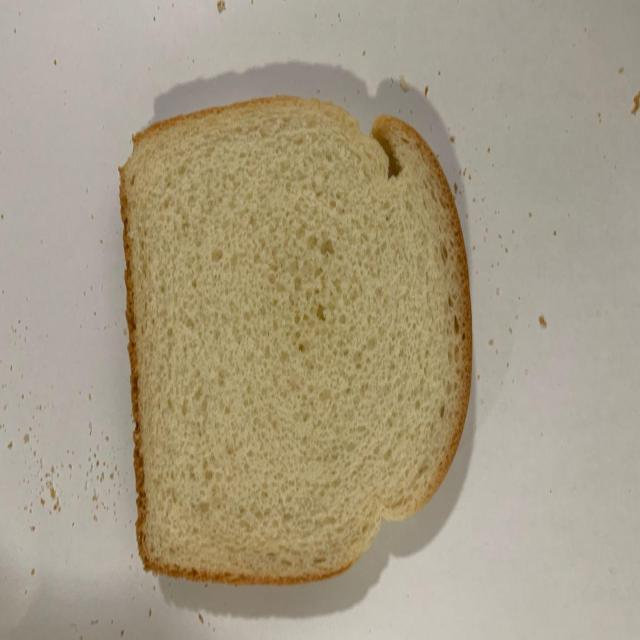sliced_bread: (121, 96, 474, 585)
